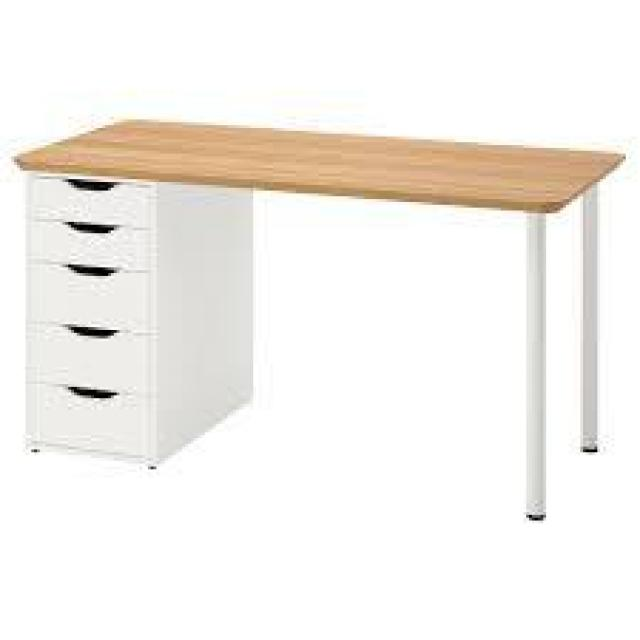desk: (14, 73, 620, 539)
